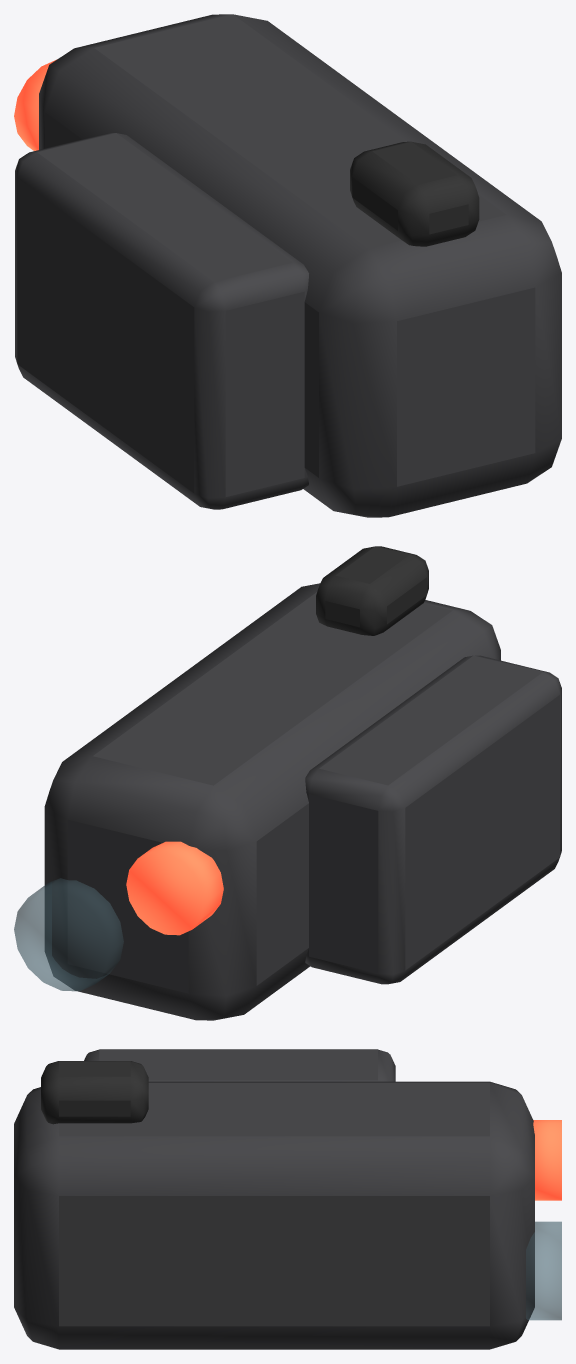
Rendered from att_lazer.glb.
3 views of the same model, one above another, from view 1: azimuth 30°, elevation 25°; view 2: azimuth 150°, elevation 25°; view 3: azimuth 270°, elevation 25° (orthographic). The views are drawn at different scales.
Visible parts, largest first — view 1: lz_body, lz_clamp, lz_switch, lz_lens_r; view 2: lz_body, lz_clamp, lz_lens_l, lz_switch, lz_lens_r; view 3: lz_body, lz_clamp, lz_switch, lz_lens_l, lz_lens_r.
Boxes of the visible parts, bbox=[...] form: lz_body: bbox=[39, 14, 561, 517]; lz_clamp: bbox=[15, 133, 308, 509]; lz_switch: bbox=[350, 141, 479, 246]; lz_lens_r: bbox=[14, 59, 56, 150]; lz_body: bbox=[44, 583, 500, 1020]; lz_clamp: bbox=[305, 655, 561, 984]; lz_lens_l: bbox=[14, 878, 123, 991]; lz_switch: bbox=[316, 546, 428, 635]; lz_lens_r: bbox=[126, 841, 223, 935]; lz_body: bbox=[14, 1081, 534, 1349]; lz_clamp: bbox=[84, 1049, 395, 1081]; lz_switch: bbox=[41, 1061, 148, 1124]; lz_lens_l: bbox=[526, 1221, 561, 1320]; lz_lens_r: bbox=[533, 1120, 561, 1200].
Bounding box in the file's own units: 0.034 × 0.031 × 0.061.
